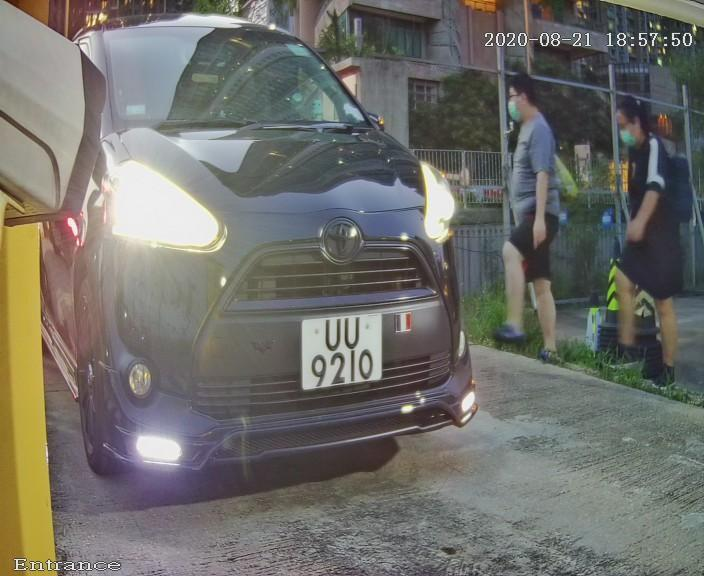Car: (23, 6, 522, 520)
License Plate: (293, 301, 393, 402)
